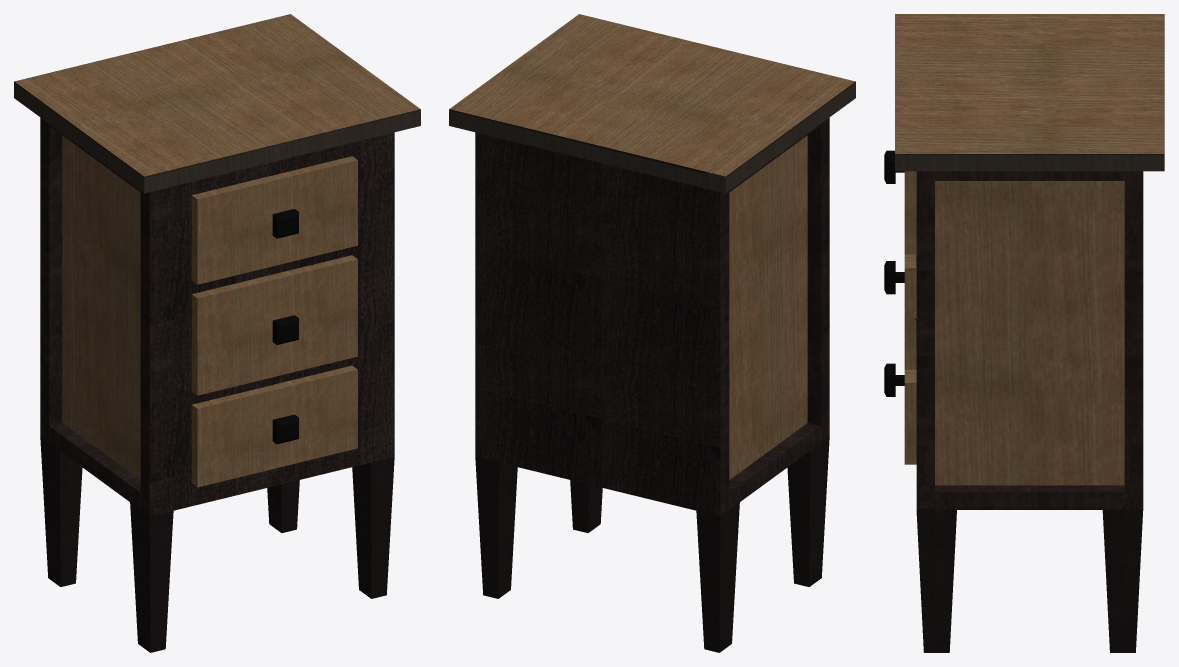
File: NightStand_Q_UN_TEX.FBX
3 views of the same model, side by side, from view 1: azimuth 30°, elevation 25°; view 2: azimuth 150°, elevation 25°; view 3: azimuth 270°, elevation 25° (orthographic). The views are drawn at different scales.
Visible parts, largest first — view 1: NightStand, knob; view 2: NightStand; view 3: NightStand, knob.
Boxes of the visible parts, x1,y1,x2,y2 form: NightStand: [14, 14, 420, 652]; knob: [272, 209, 298, 444]; NightStand: [449, 14, 855, 652]; NightStand: [895, 14, 1164, 652]; knob: [884, 150, 904, 396].
Bounding box in the file's own units: 26.91 × 45.68 × 22.8.
